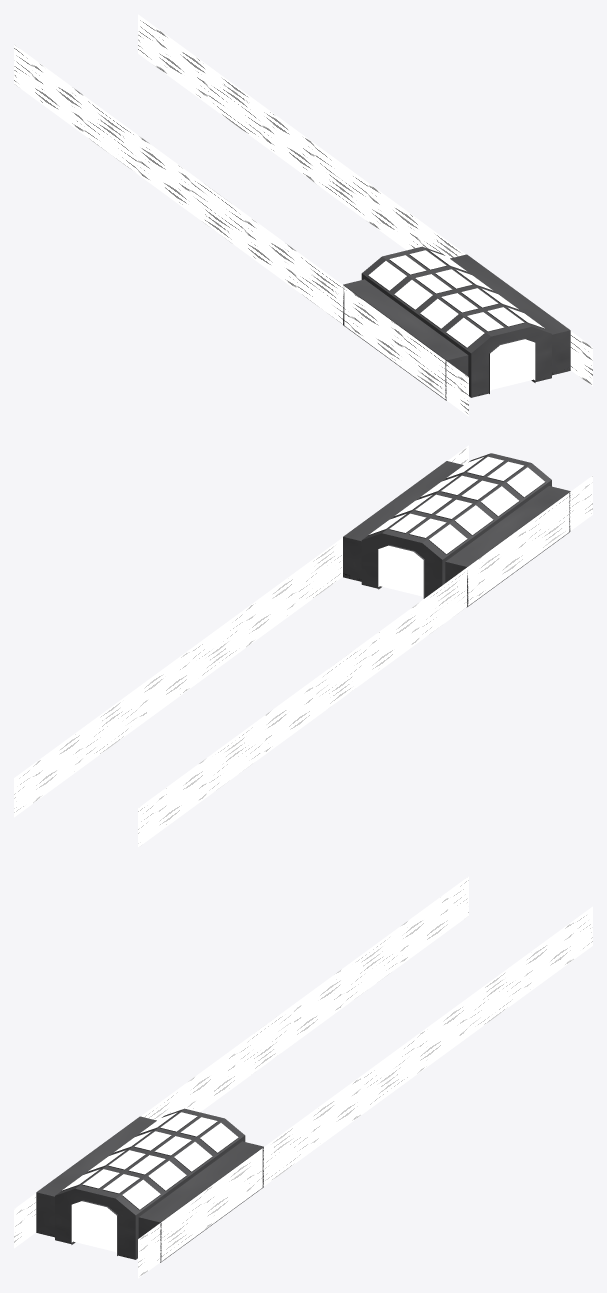
The model's file is catwalk.glb.
3 renders of one model, top to bottom at view 1: azimuth 30°, elevation 25°; view 2: azimuth 150°, elevation 25°; view 3: azimuth 330°, elevation 25°, orthographic.
Parts seen in each view (by area): view 1: Dynamic Wall, Catwalk; view 2: Dynamic Wall, Catwalk; view 3: Dynamic Wall, Catwalk.
Boxes of the visible parts, x1,y1,x2,y2 form: Dynamic Wall: [14, 14, 592, 416]; Catwalk: [343, 246, 570, 400]; Dynamic Wall: [14, 445, 592, 847]; Catwalk: [343, 453, 570, 607]; Dynamic Wall: [14, 876, 592, 1278]; Catwalk: [36, 1108, 263, 1262].
Size of the model in its own units: 9.33 by 4.12 by 59.36.
Materials: 5 (1 with a texture image).
